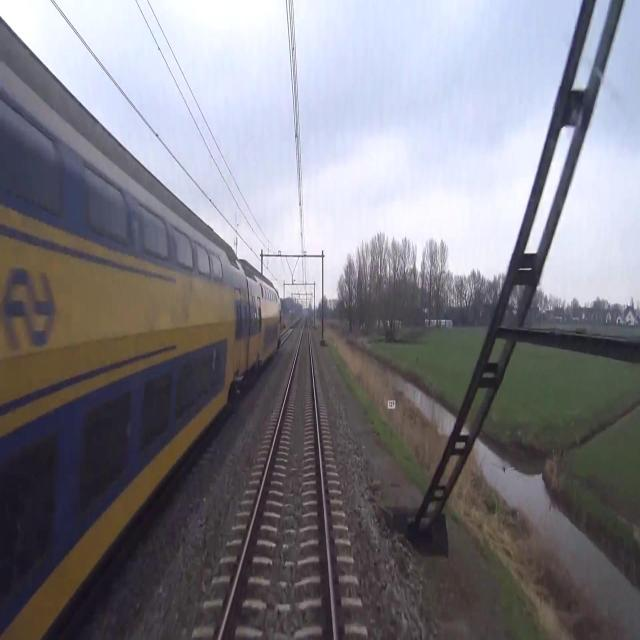rail-track: (222, 322, 332, 639)
